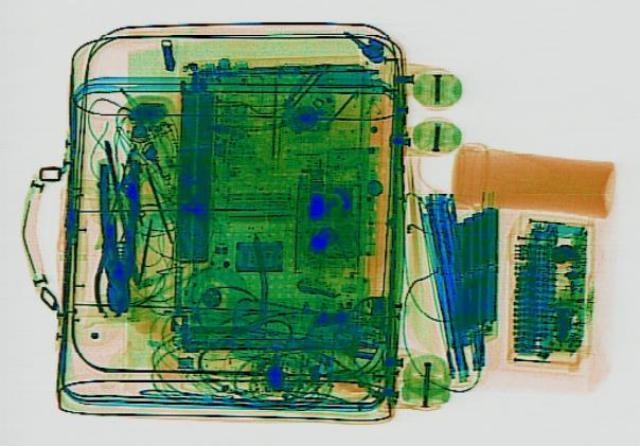Pliers: (90, 158, 140, 314), (92, 222, 130, 310)
